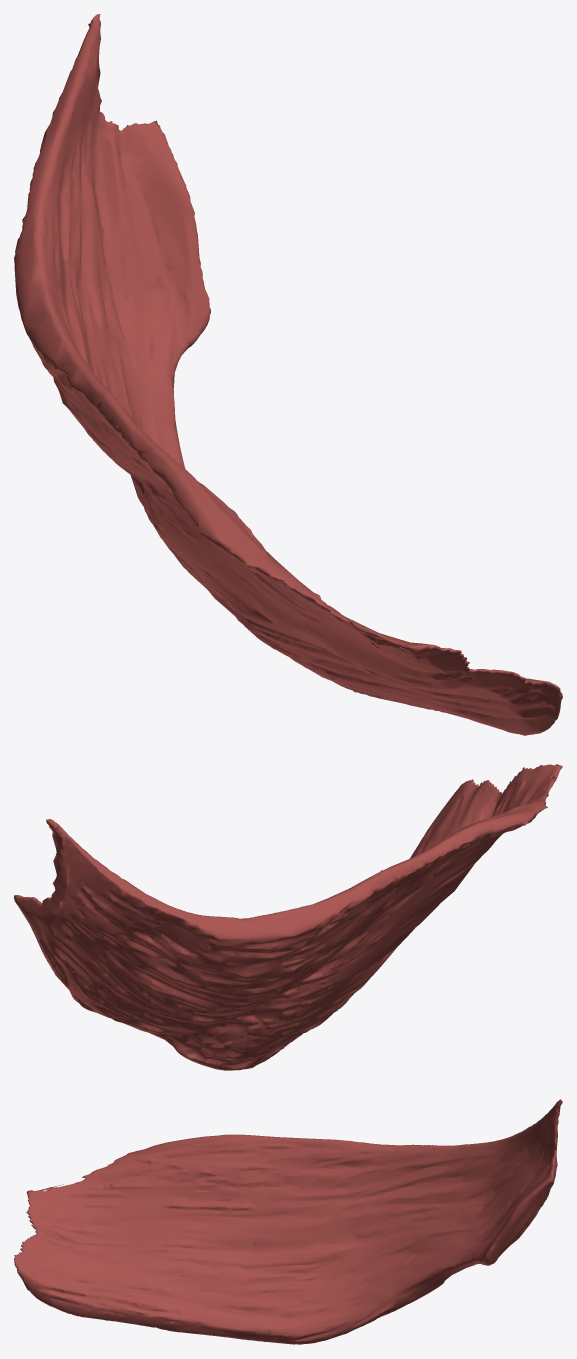
Rendered from FMA45854.glb.
3 views of the same model, one above another, from view 1: azimuth 30°, elevation 25°; view 2: azimuth 150°, elevation 25°; view 3: azimuth 270°, elevation 25° (orthographic). The views are drawn at different scales.
Parts seen in each view (by area): view 1: FMA45854; view 2: FMA45854; view 3: FMA45854.
Boxes of the visible parts, left/top/right/bottom form: FMA45854: left=14, top=14, right=562, bottom=735; FMA45854: left=14, top=764, right=562, bottom=1070; FMA45854: left=14, top=1099, right=562, bottom=1344.
Bounding box in the file's own units: 0.0323 × 0.0468 × 0.0907.
